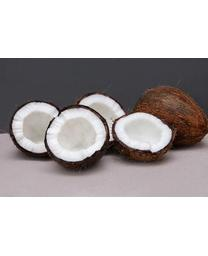coconut: (135, 81, 207, 151), (46, 99, 110, 171), (114, 104, 177, 156), (78, 89, 127, 148), (14, 95, 59, 159)
